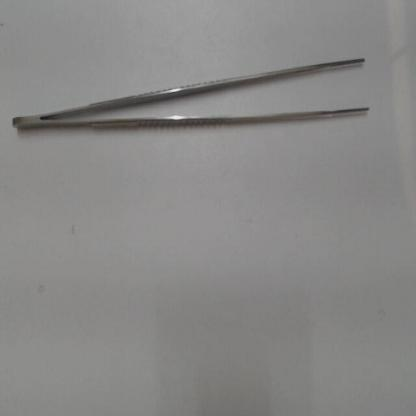DeBakey Dissector: (3, 25, 383, 144)
